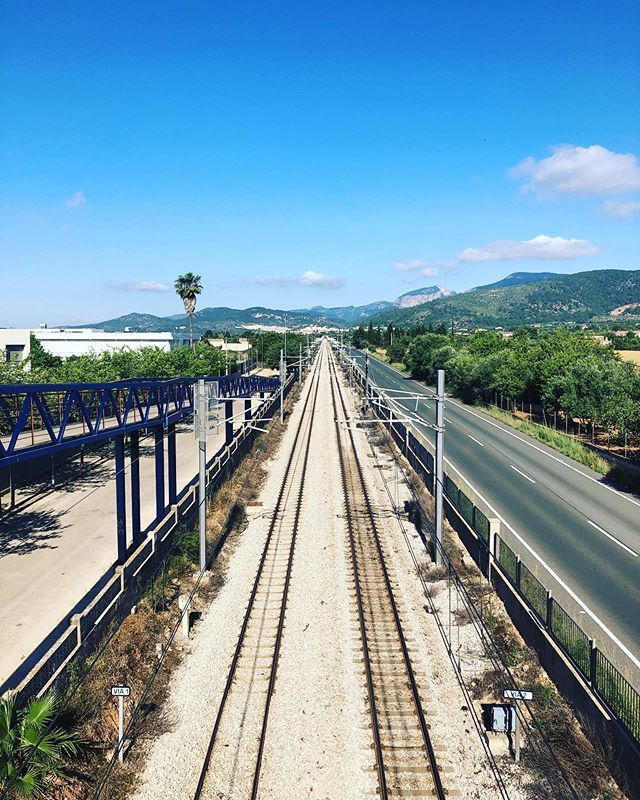mountain: (276, 268, 640, 330)
road: (335, 338, 640, 646)
sky: (1, 1, 640, 287)
train track: (104, 340, 590, 800)
tree: (174, 275, 231, 361)
vegetation: (393, 320, 640, 437)
